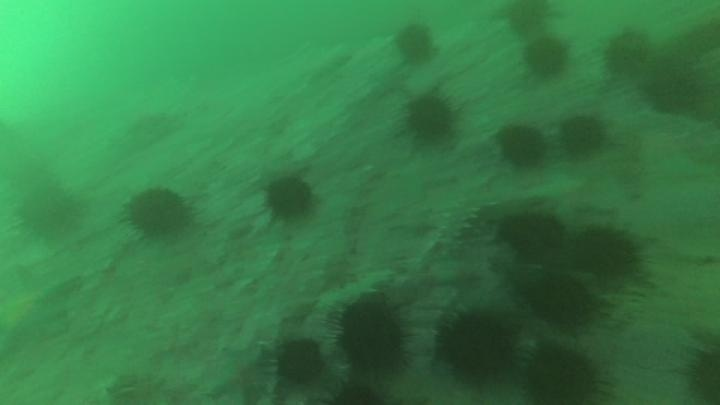echinus: (333, 298, 411, 375), (436, 312, 517, 384), (522, 343, 604, 404), (16, 181, 85, 242), (643, 54, 708, 117), (123, 185, 195, 241), (571, 225, 642, 281), (528, 273, 596, 331), (498, 210, 565, 260), (403, 91, 459, 144), (263, 173, 316, 222), (274, 338, 326, 386), (602, 29, 652, 78), (496, 123, 548, 170), (684, 340, 720, 405), (559, 113, 607, 159), (522, 35, 570, 80), (393, 21, 437, 66), (502, 1, 555, 37), (330, 380, 389, 404)
holothurian: (318, 266, 395, 316), (438, 197, 484, 253)
starfish: (0, 269, 78, 356), (205, 344, 274, 405), (432, 255, 484, 294)
